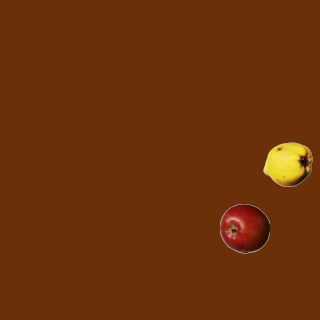Apple Braeburn: (219, 203, 269, 253)
Quince: (262, 139, 312, 189)
